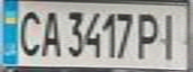1: (100, 9, 121, 58)
3: (63, 7, 84, 58)
4: (81, 7, 103, 58)
7: (115, 8, 136, 60)
A: (36, 6, 63, 58)
C: (12, 6, 45, 58)
I: (154, 9, 187, 62)
P: (136, 9, 163, 61)
